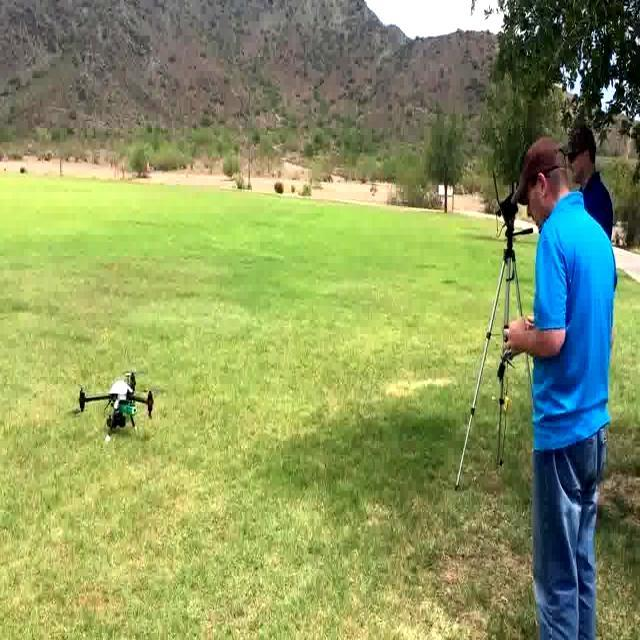drone: (77, 372, 155, 435)
